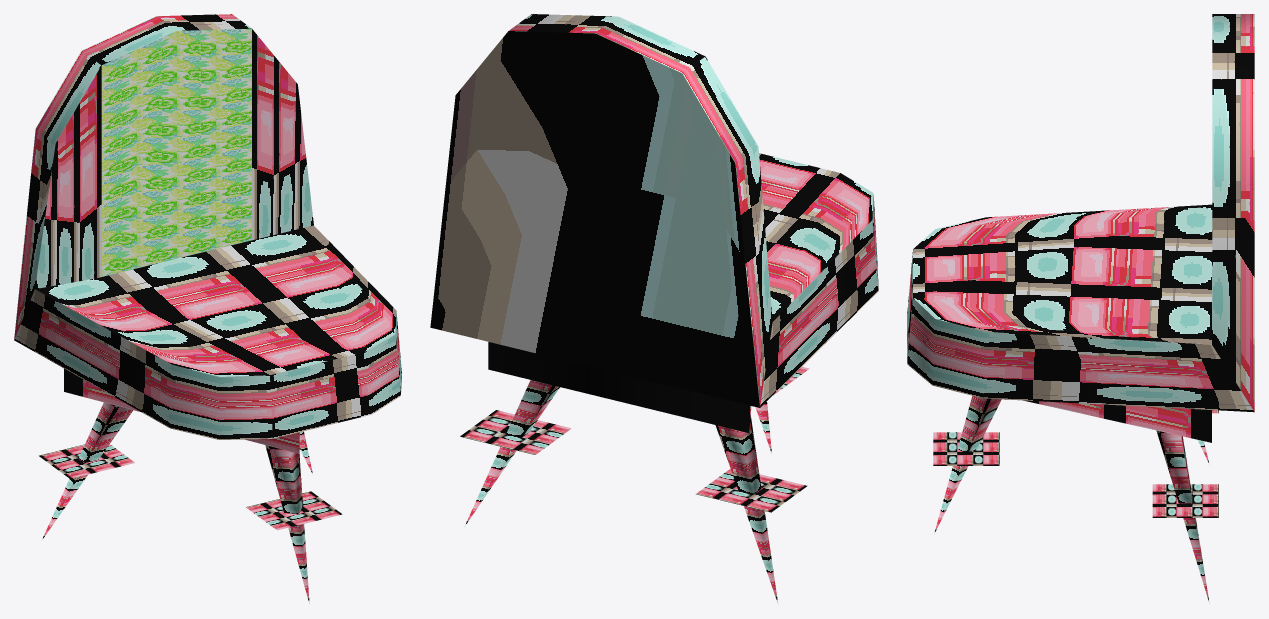
Rendered from 3664kg_ga_isu.gltf.
3 renders of one model, left to right at view 1: azimuth 30°, elevation 25°; view 2: azimuth 150°, elevation 25°; view 3: azimuth 270°, elevation 25°, orthographic. The views are drawn at different scales.
Visible parts, largest first — view 1: 3664kg_ga_isu; view 2: 3664kg_ga_isu; view 3: 3664kg_ga_isu.
Part boxes in pixels (x1,y1,x2,y2): 3664kg_ga_isu: (14, 14, 401, 603); 3664kg_ga_isu: (430, 14, 878, 603); 3664kg_ga_isu: (907, 14, 1254, 603).
Bounding box in the file's own units: 0.7673 × 1.23 × 0.7715.
2 materials, 2 textured.
